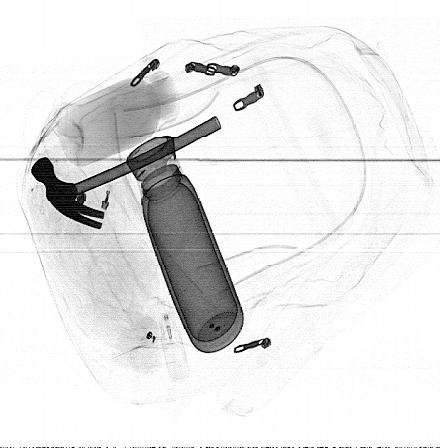Hammer: (31, 115, 222, 231)
